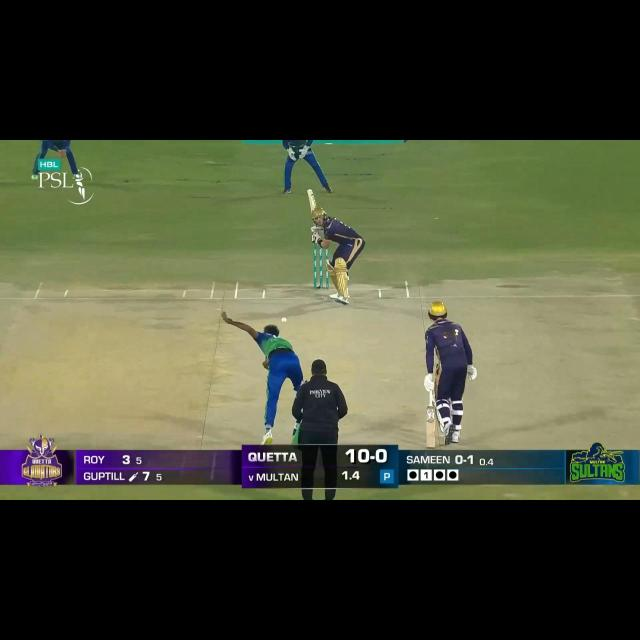bat: (425, 407, 436, 450), (306, 188, 316, 211)
toe: (426, 440, 435, 449), (304, 187, 314, 194)
